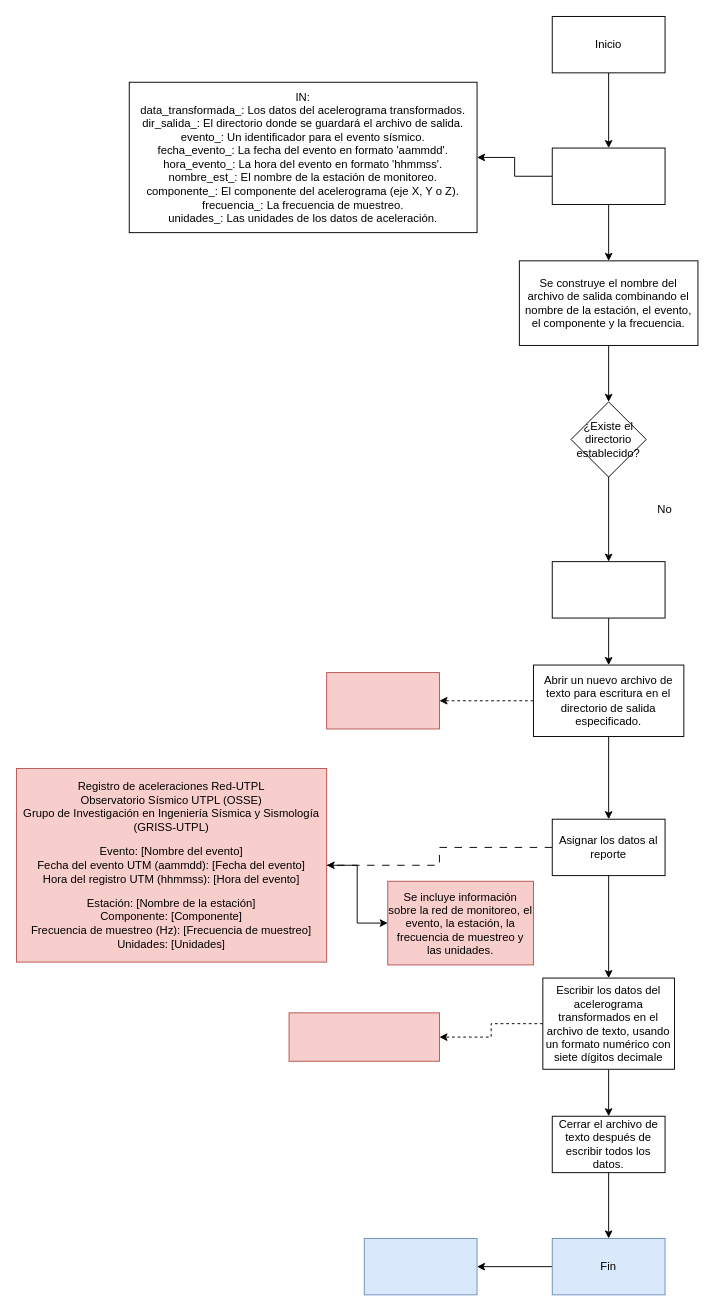
The diagram is 714 pixels wide and 1311 high, and some of its shapes have lost their labels. Each missing label, with the centre of its shape:
"Crear directorio con mkdir" goes at (x=608, y=589).
"fid=fopen([dir_salida '\' nombre_archivo],'wt');" goes at (x=382, y=700).
"fprintf(fid,'%.7f %.7f %.7f %.7f %.7f %.7f\n',data_transformada);" goes at (x=363, y=1036).
"OUT: Archivo con los valores previamente descritos" goes at (x=420, y=1266).
"reporte_conversion" goes at (x=608, y=175).
